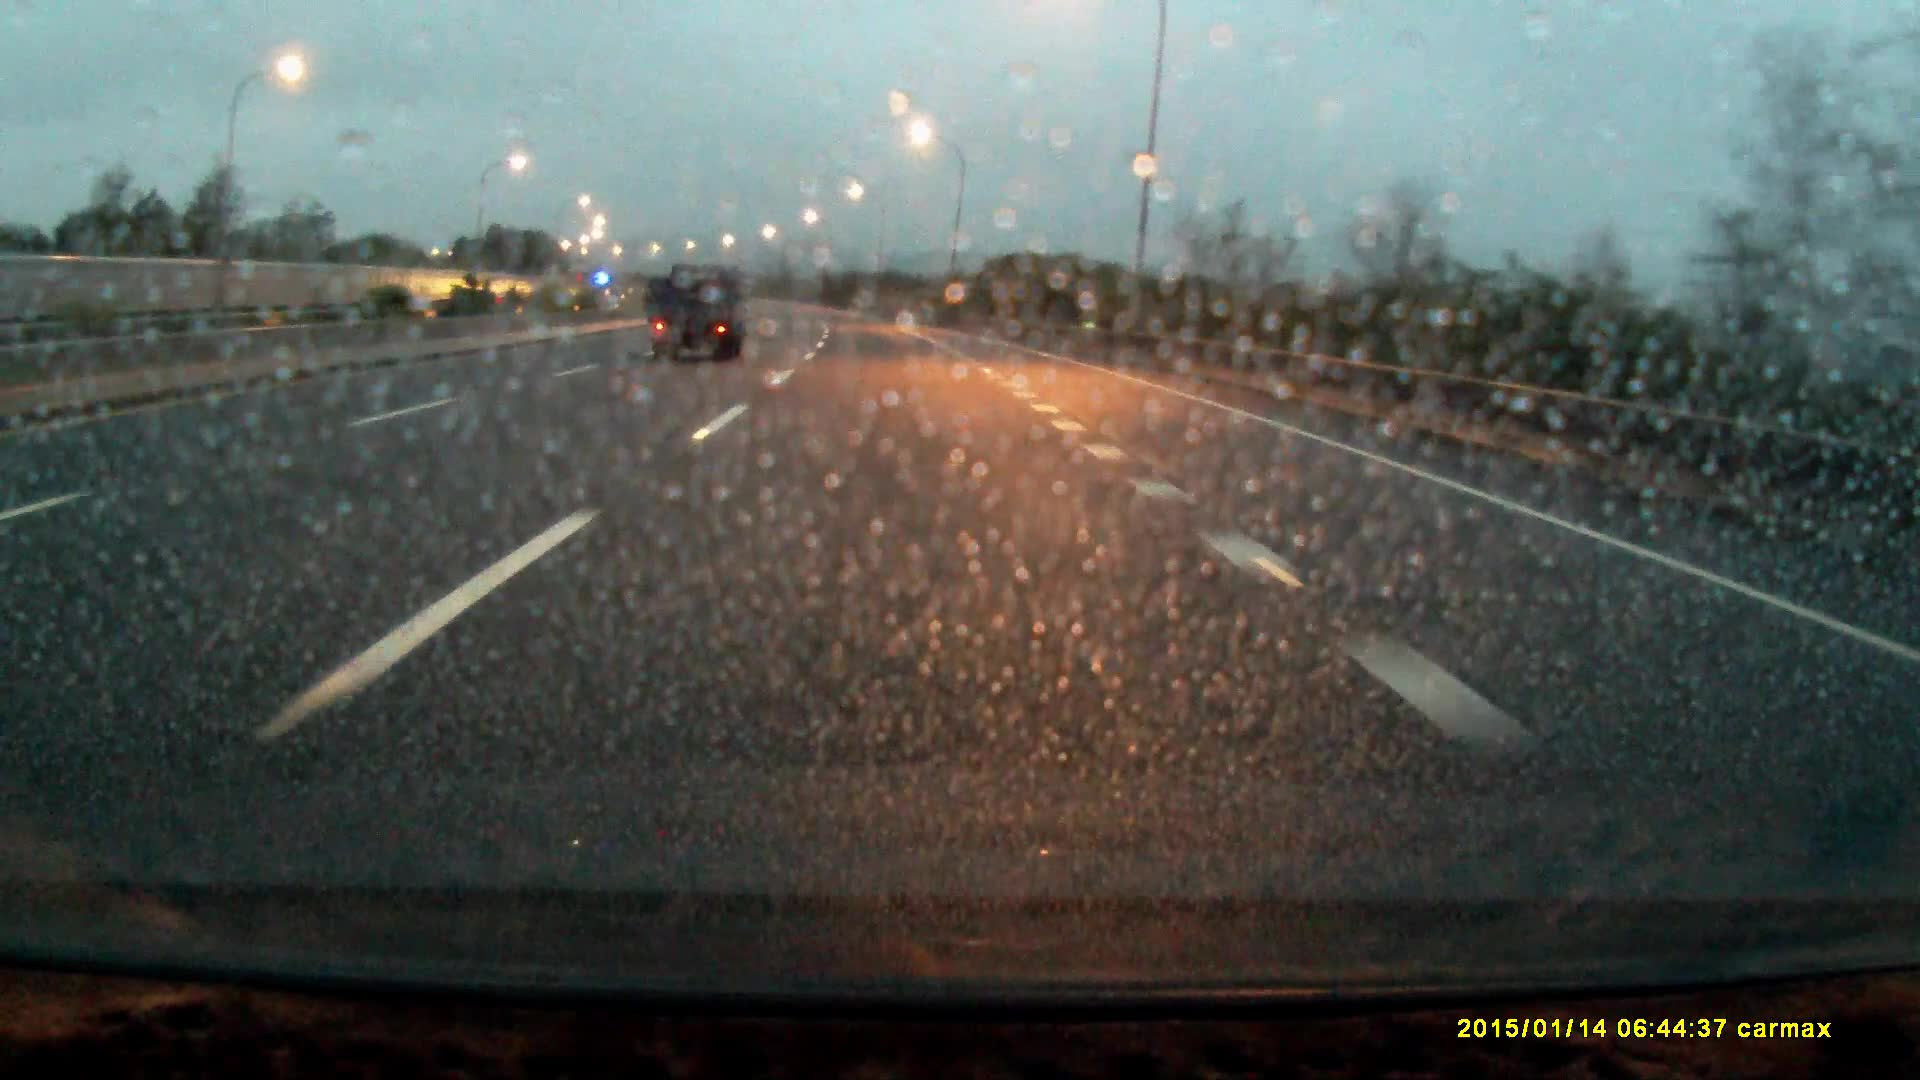vehicle: (650, 256, 749, 367)
